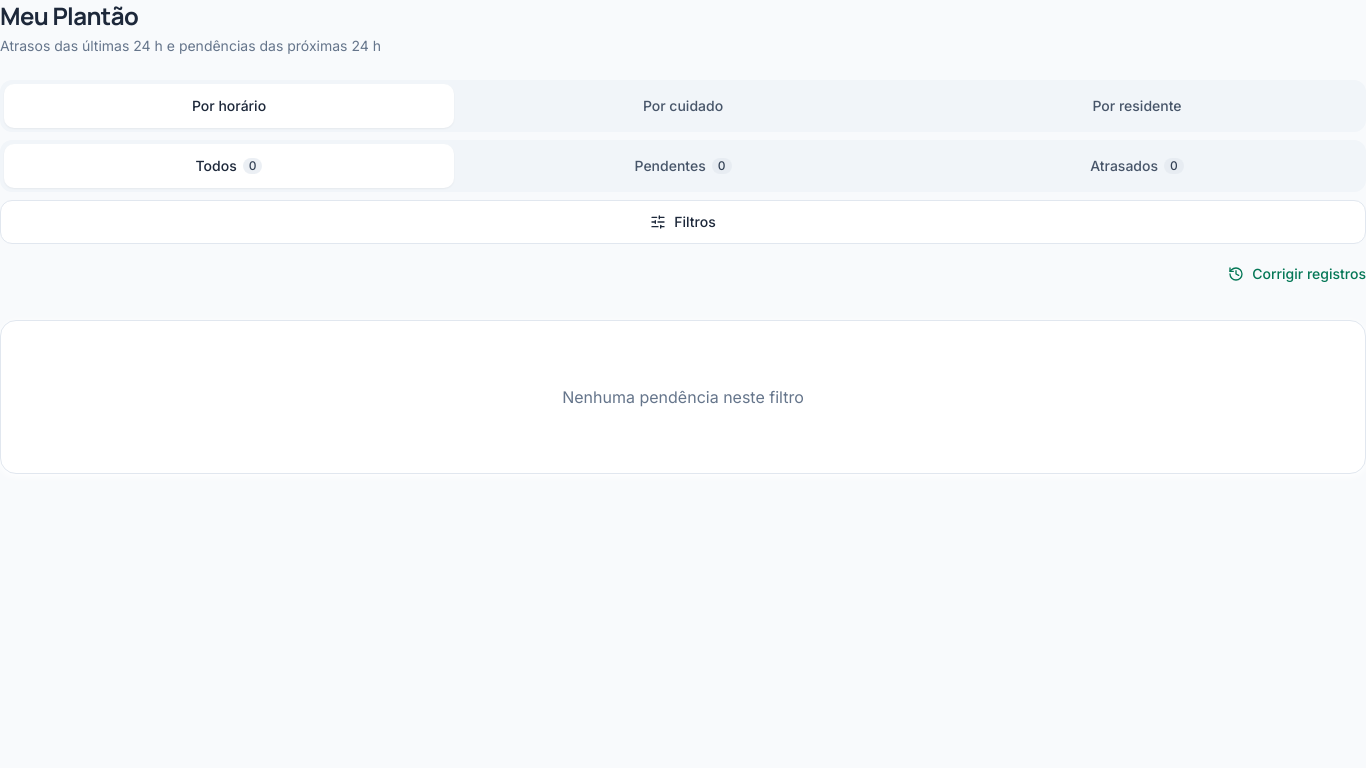
Scenario: UX-01F — corrigir registros (decisão A) › falha do servidor mantém o formulário com a mensagem
Click the button "Corrigir registros": {"x": 1297, "y": 274} [1228, 252, 1365, 296]
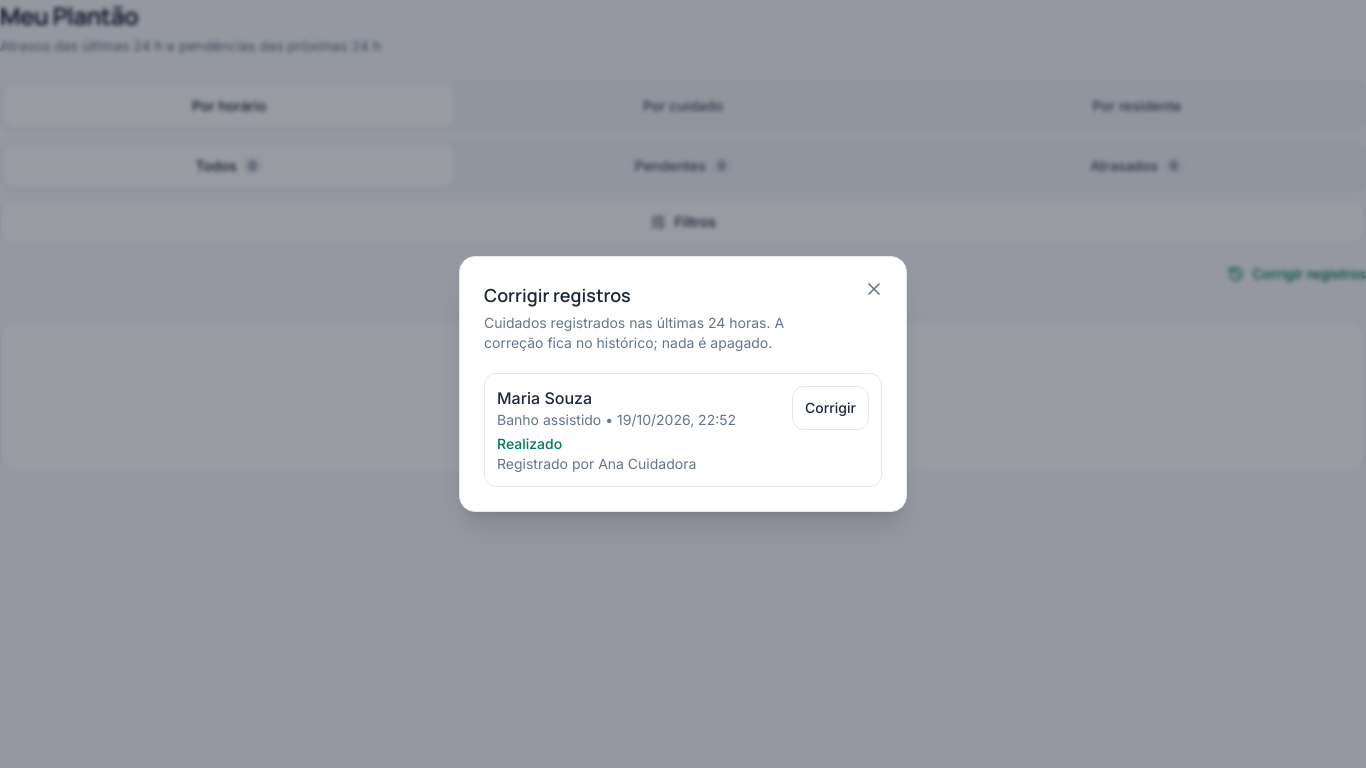
Click the button with aria-label "Corrigir — ": {"x": 830, "y": 408} [792, 386, 869, 430]
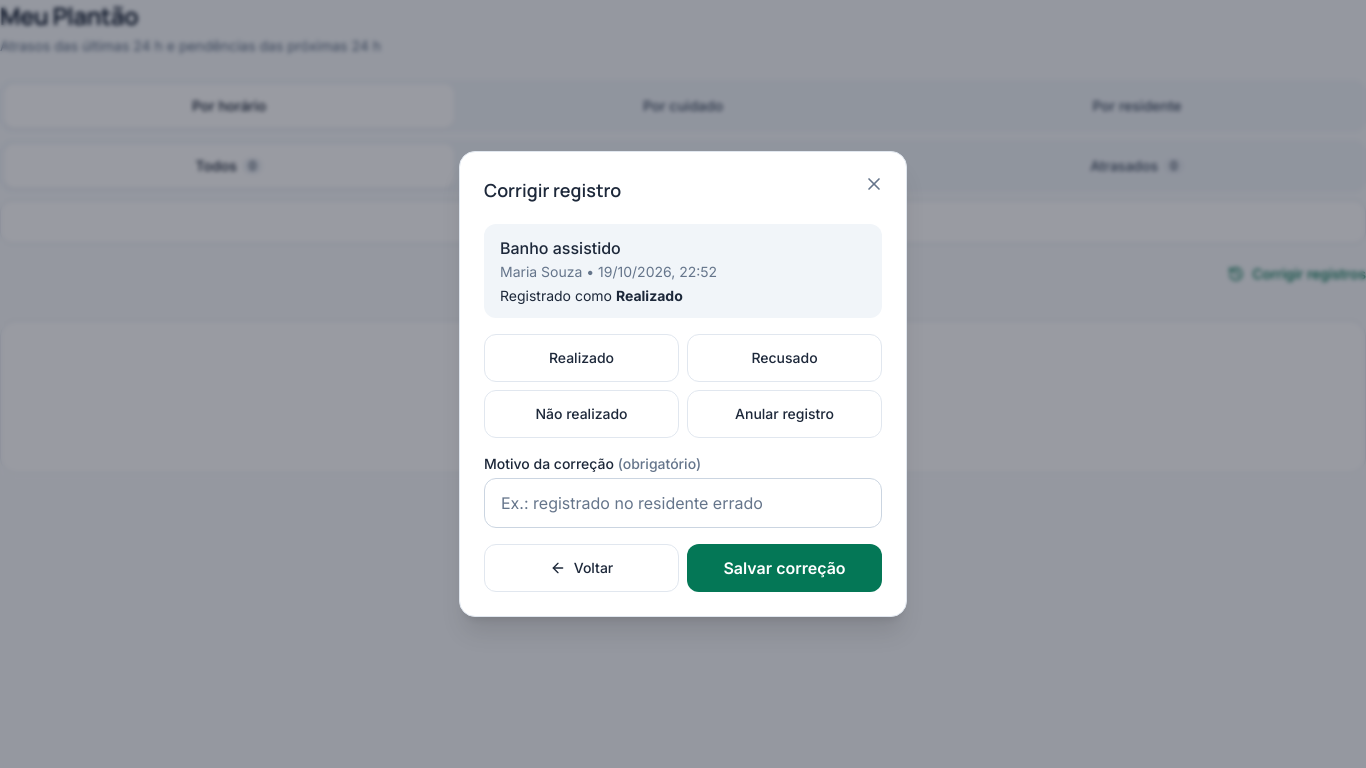
Click the button "Realizado": {"x": 582, "y": 358} [484, 334, 679, 382]
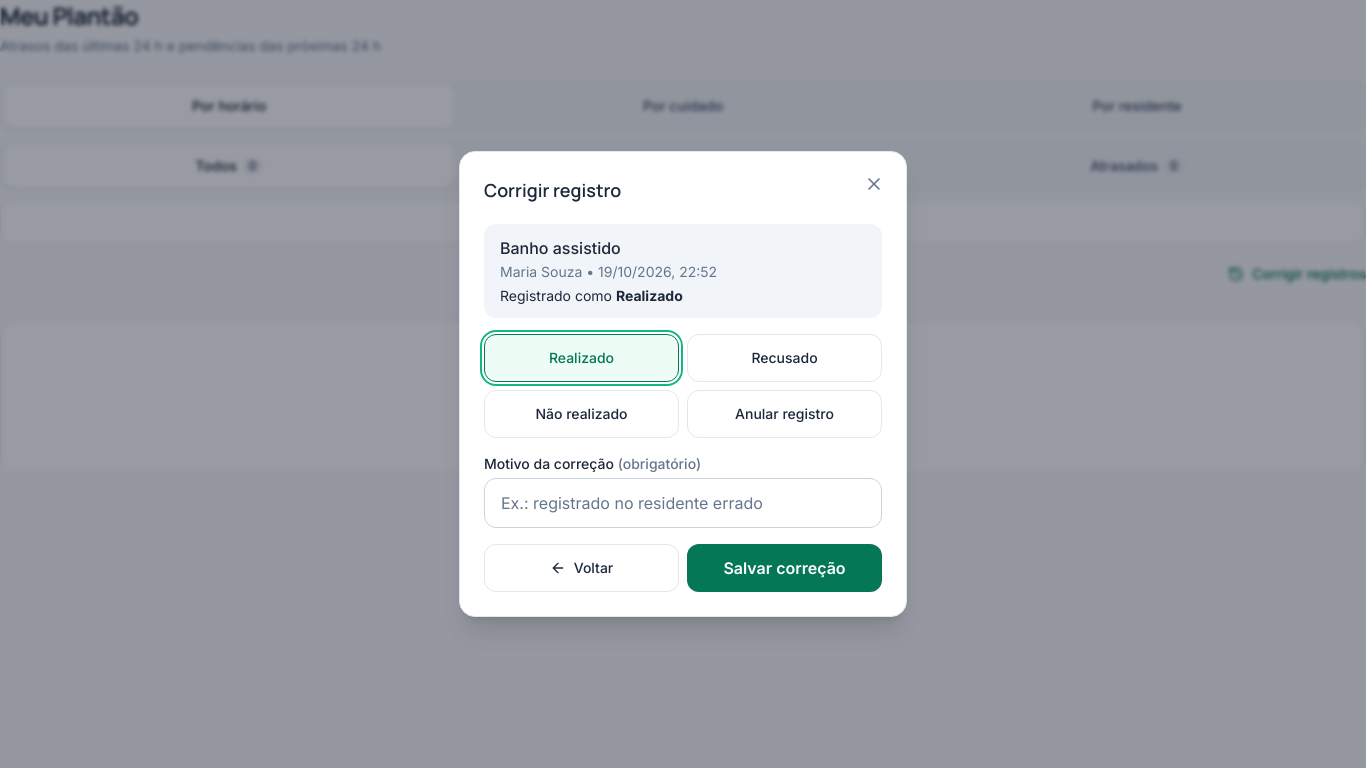
In the field labelled "Motivo da correção (obrigatório)": {"x": 683, "y": 503} [484, 478, 882, 528], type "x"
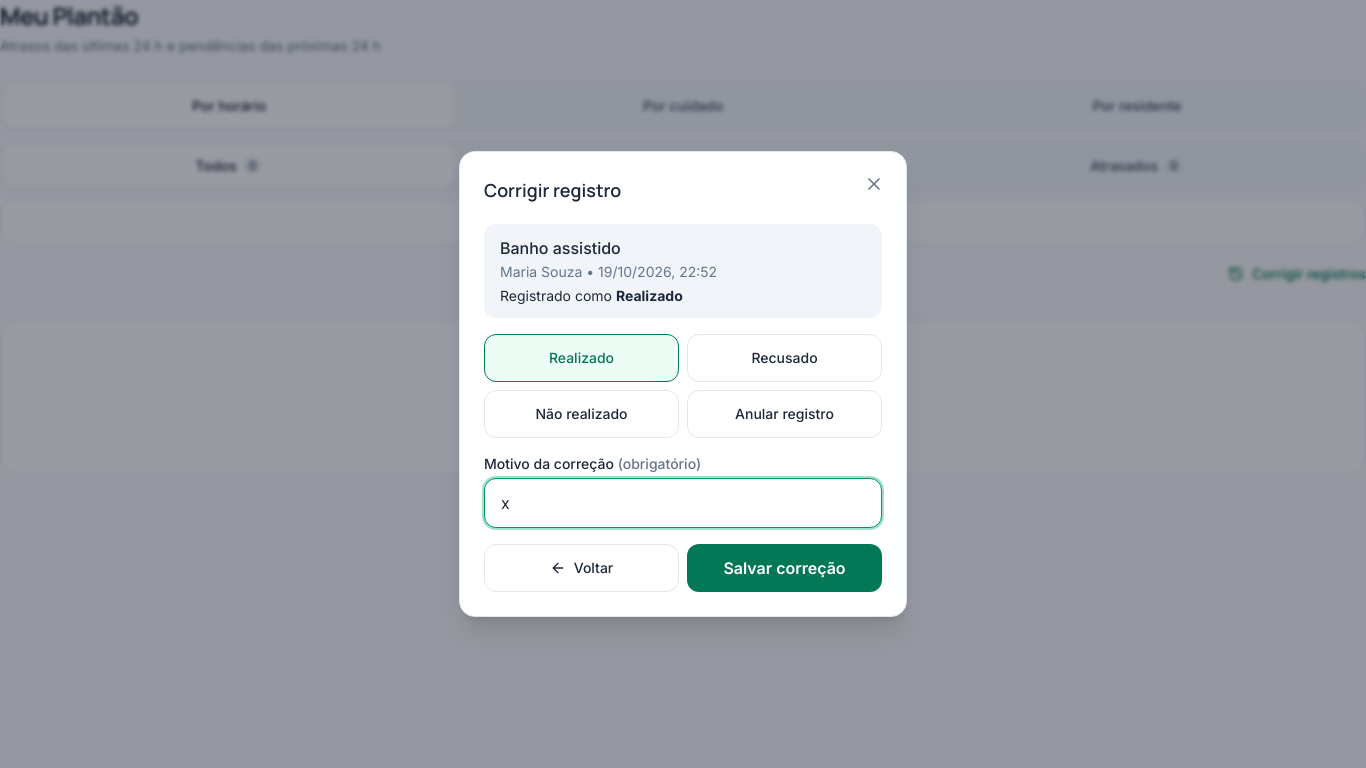
Click the button "Salvar correção": {"x": 784, "y": 568} [687, 544, 882, 592]
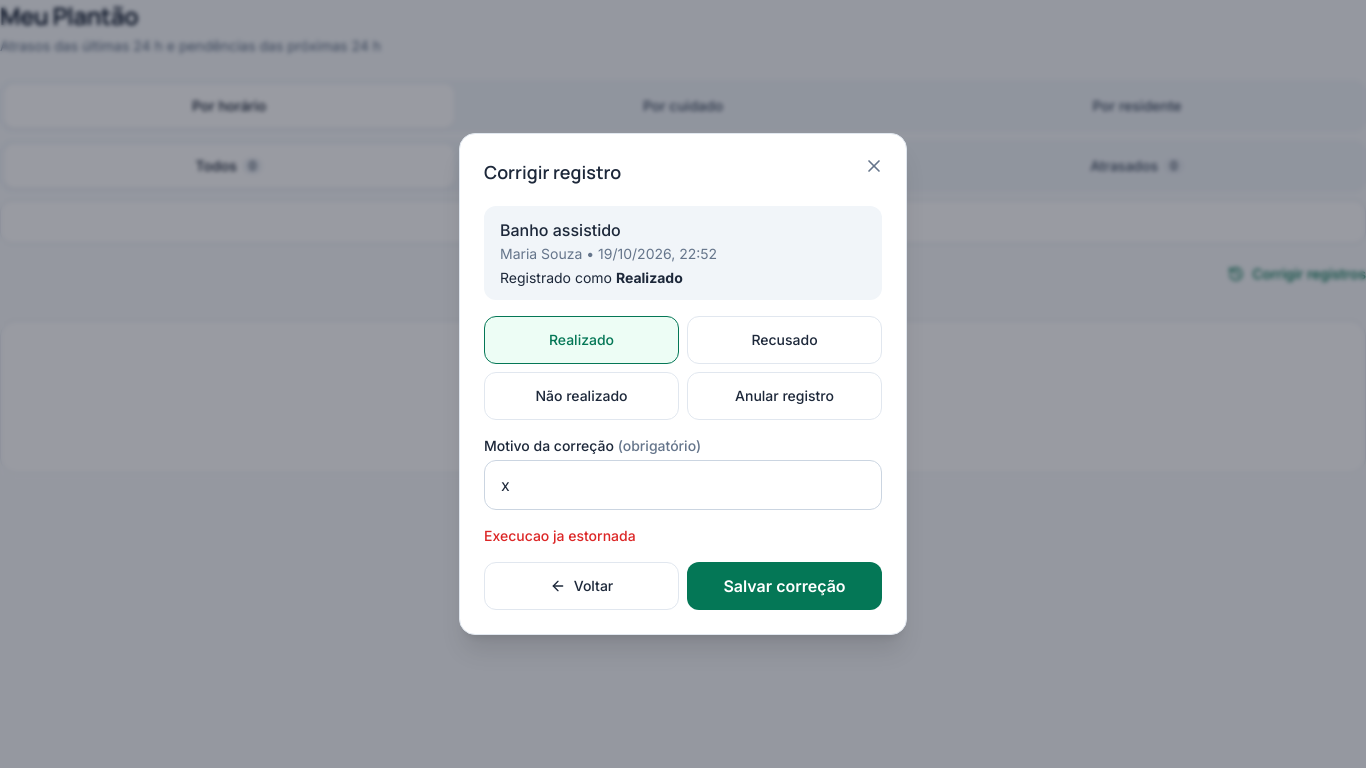
Result: the button "Salvar correção" is shown at [687, 562, 882, 610]
Result: the message "Execucao ja estornada" is shown at [484, 527, 636, 544]
